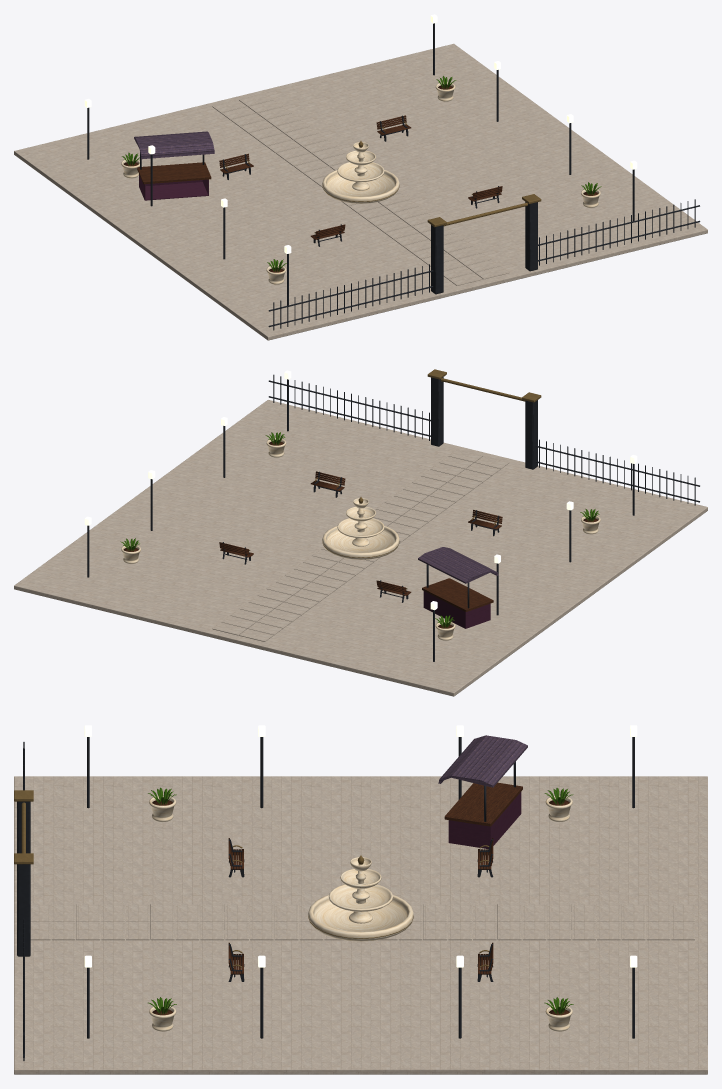
Rendered from finish_plaza.glb.
3 views of the same model, one above another, from view 1: azimuth 30°, elevation 25°; view 2: azimuth 150°, elevation 25°; view 3: azimuth 270°, elevation 25° (orthographic). The views are drawn at different scales.
Visible parts, largest first — view 1: Rebuilt_finish_plaza; view 2: Rebuilt_finish_plaza; view 3: Rebuilt_finish_plaza.
Part boxes in pixels (left/top/right/bottom): Rebuilt_finish_plaza: left=14, top=14, right=707, bottom=340; Rebuilt_finish_plaza: left=14, top=369, right=707, bottom=696; Rebuilt_finish_plaza: left=14, top=725, right=707, bottom=1074.
Bounding box in the file's own units: 28 × 4.56 × 28.
11 materials, 10 textured.
